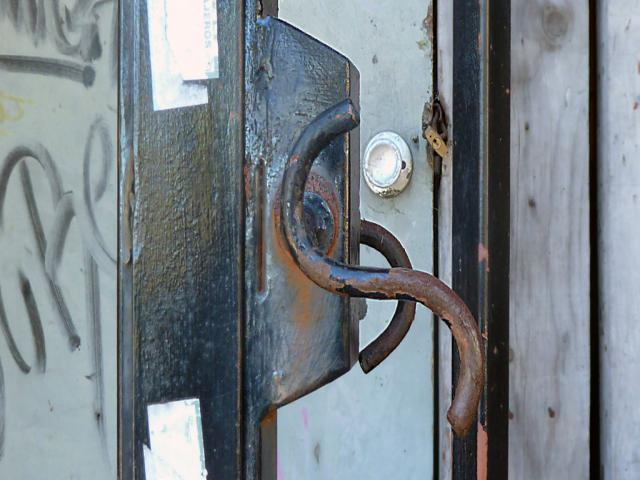Door-handle: (362, 131, 414, 199)
